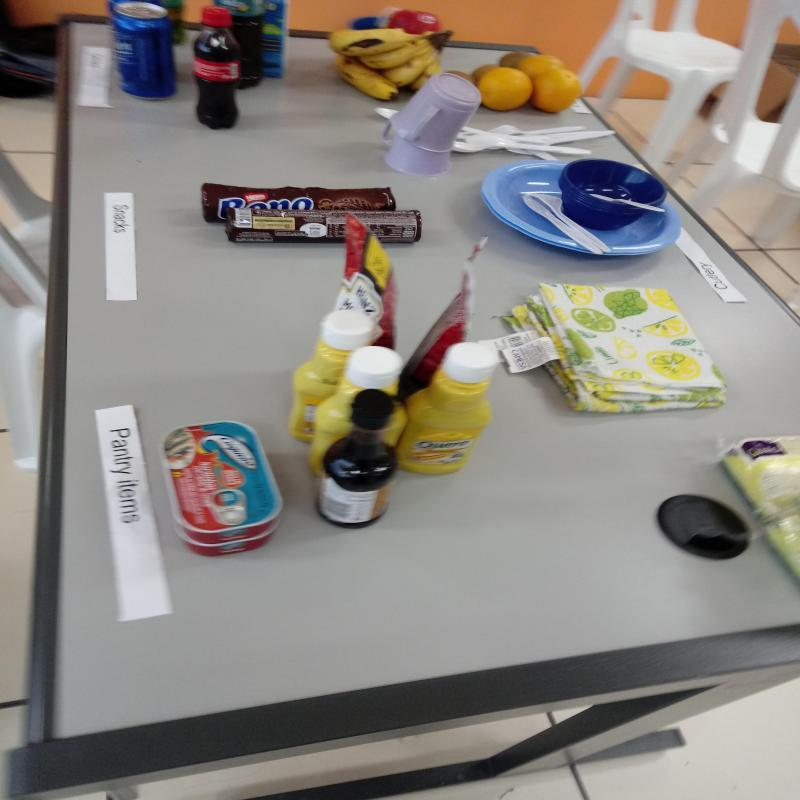Banana: (329, 28, 451, 100)
Cloth: (504, 284, 727, 418)
CoconutWater: (268, 0, 290, 80)
Coke: (193, 5, 242, 130)
Cookies: (224, 207, 422, 246), (202, 183, 396, 222)
EnglishSauce: (320, 392, 397, 528)
IceTea: (214, 0, 268, 92)
Mustard: (397, 343, 506, 476), (289, 310, 384, 444), (308, 346, 403, 478), (382, 402, 409, 448)
Orange: (536, 71, 590, 117), (480, 67, 534, 113), (520, 54, 568, 82)
Sponge: (712, 423, 800, 525)
TomatoSauce: (395, 269, 474, 413), (333, 214, 394, 348)
Tonic: (105, 0, 176, 103)
TunaCan: (156, 421, 284, 546)
